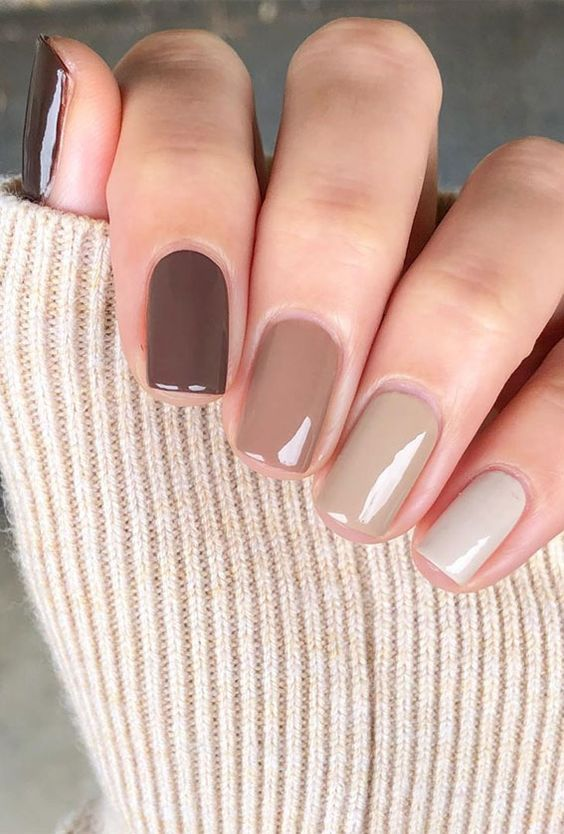nails: (314, 382, 444, 543), (225, 307, 340, 478), (136, 243, 237, 400), (412, 459, 533, 588), (21, 27, 74, 215)
